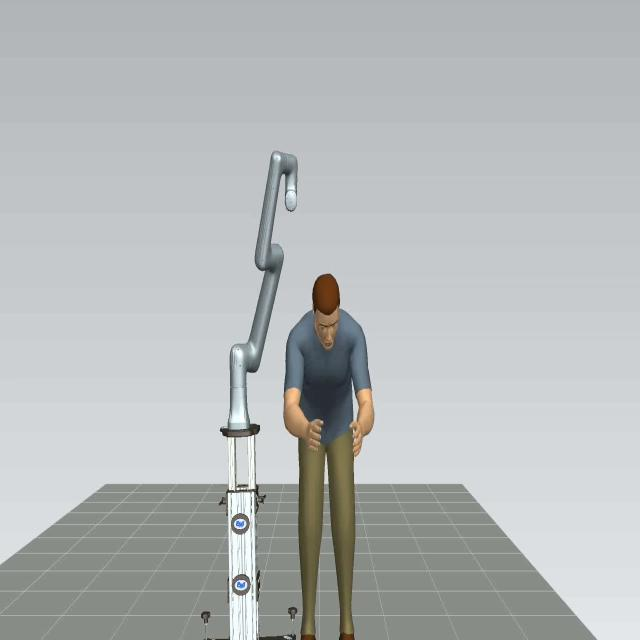human: (283, 273, 374, 638)
robot: (200, 148, 298, 638)
